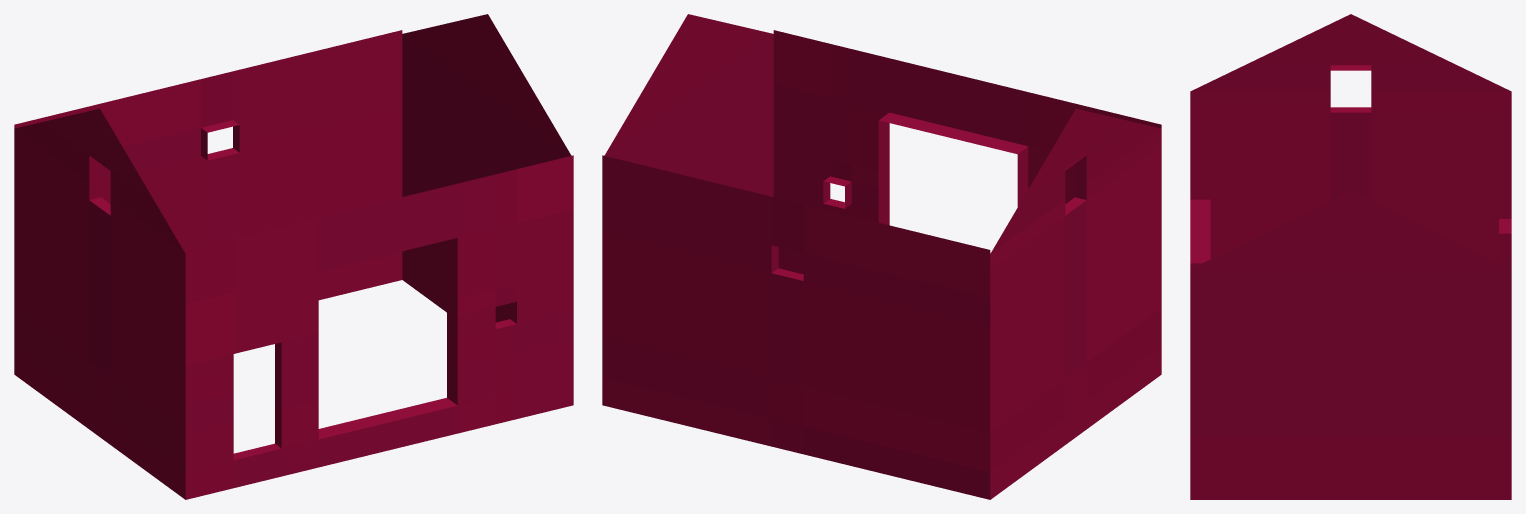
The model's file is SM_Bld_183_Masonry.glb.
3 views of the same model, side by side, from view 1: azimuth 30°, elevation 25°; view 2: azimuth 150°, elevation 25°; view 3: azimuth 270°, elevation 25° (orthographic). The views are drawn at different scales.
Visible parts, largest first — view 1: SM_Bld_183_Masonry; view 2: SM_Bld_183_Masonry; view 3: SM_Bld_183_Masonry.
Boxes of the visible parts, box(x1,y1,x2,y2) form: SM_Bld_183_Masonry: box(14, 14, 573, 499); SM_Bld_183_Masonry: box(602, 14, 1161, 499); SM_Bld_183_Masonry: box(1190, 14, 1511, 499).
Bounding box in the file's own units: 7.26 × 5.88 × 5.55.
